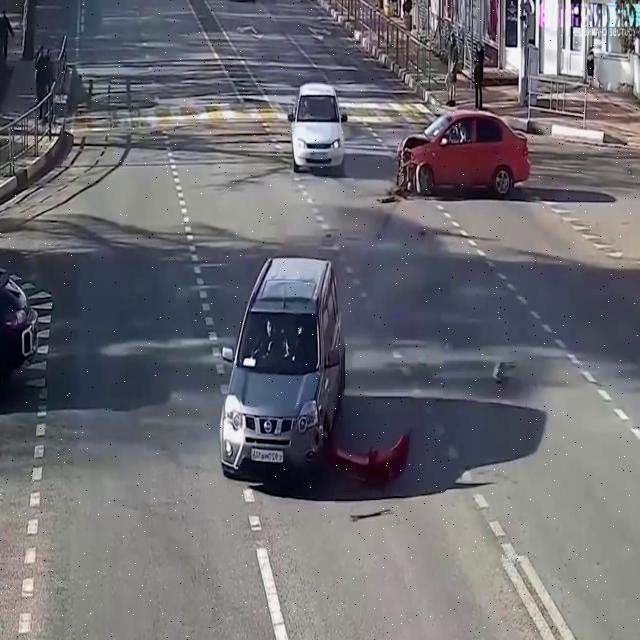accident: (210, 245, 421, 517), (370, 99, 538, 212)
